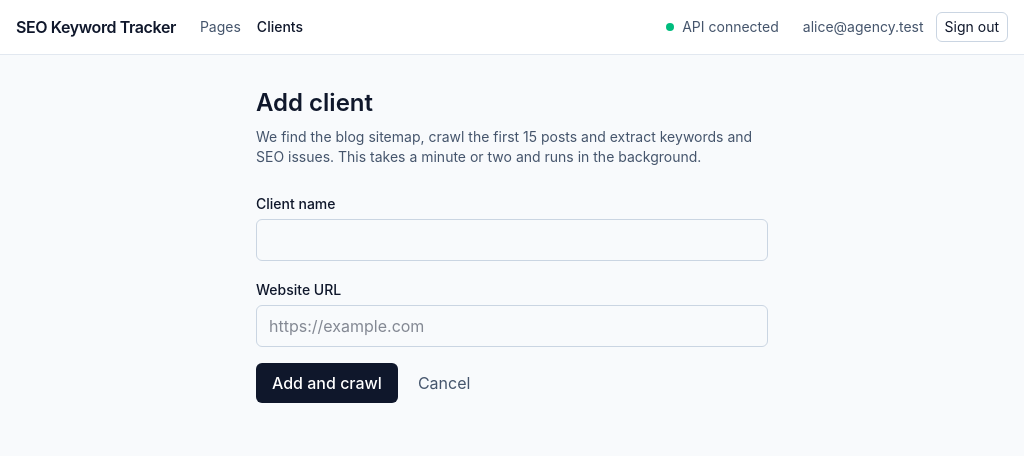
Test: add client › links to the existing client for a duplicate site
Type "Acme again" into the field labelled "Client name".
click(512, 240); type("Acme again")  # box [256,219,768,261]
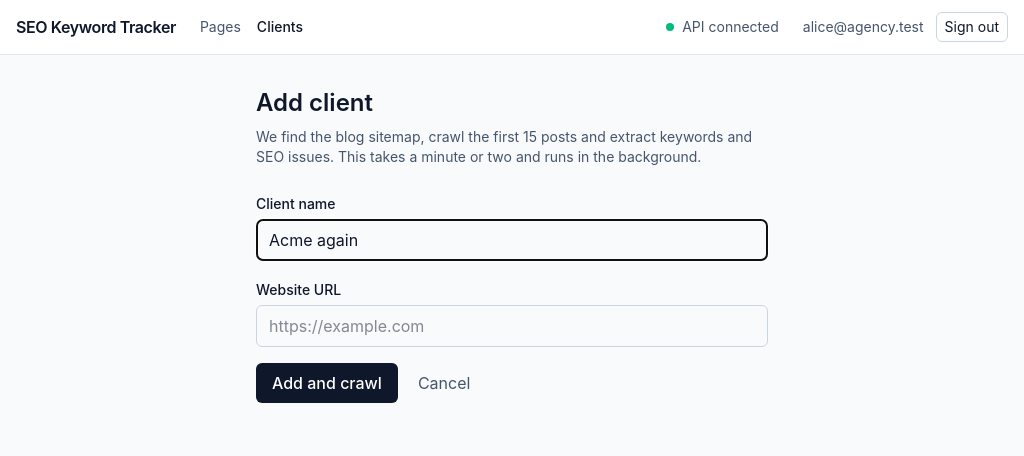
Type "https://www.acme.example" into the field labelled "Website URL".
click(512, 326); type("https://www.acme.example")  # box [256,305,768,347]
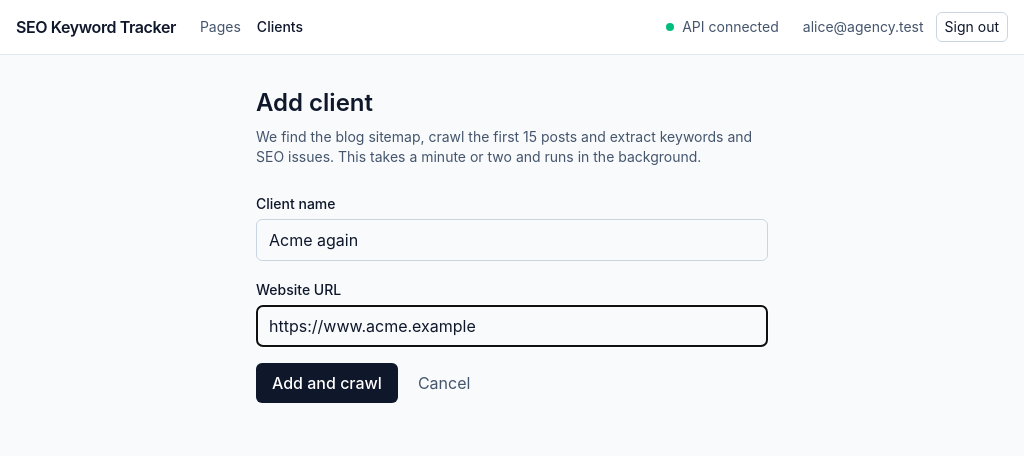
Click the button "Add and crawl".
click(327, 383)  # box [256,363,398,403]
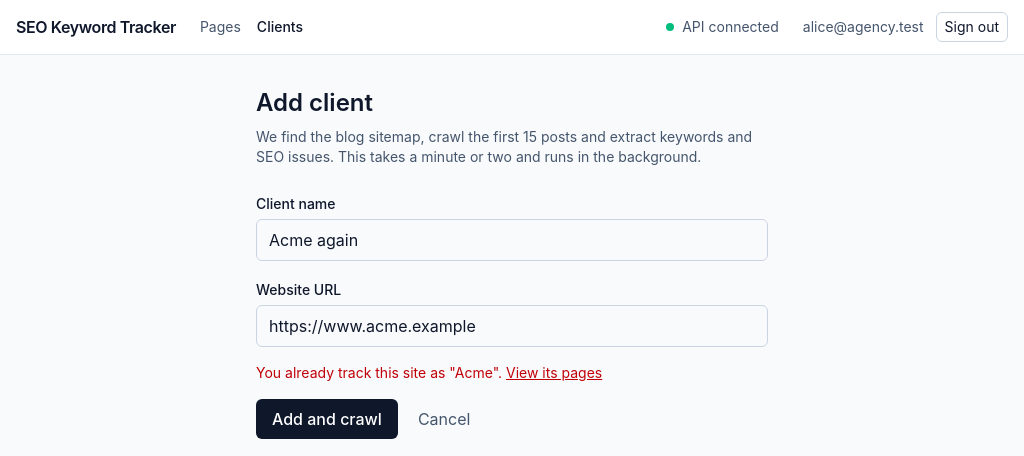
Expected: the message "You already track this site as \"Acme\". View its pages" shows "You already track this site as \"Acme\"", [256,364,498,381]
